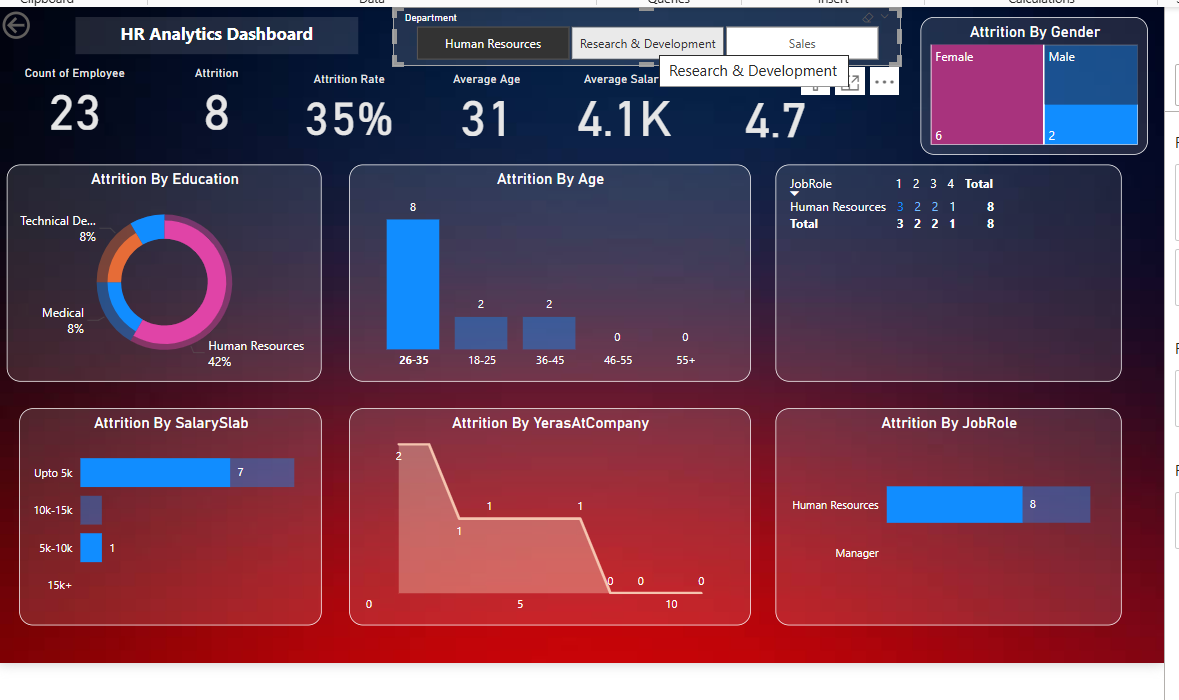

Layout of this report page (visuals, bound fields, positions):
{"tool":"powerbi","page":{"name":"Page 1","canvas":[1280,720],"ordinal":0},"visuals":[{"type":"card","title":"Count of Employee","fields":{"Values":["Sum(HR_Analytics.EmployeeCount)"]},"box":[9.6,64.5,149.6,75.5],"z":0},{"type":"card","title":"Attrition","fields":{"Values":["Sum(HR_Analytics.AttritionCount)"]},"box":[164.7,64.5,150.9,75.5],"z":1000},{"type":"card","title":"Attrition Rate","fields":{"Values":["HR_Analytics.Attrition Rtae"]},"box":[310.1,71.4,150.9,75.5],"z":2000},{"type":"card","title":"Average Age","fields":{"Values":["Avg(HR_Analytics.Age)"]},"box":[461.1,71.4,150.9,75.5],"z":3000},{"type":"card","title":"Average Salary","fields":{"Values":["Avg(HR_Analytics.MonthlyIncome)"]},"box":[612,71.4,150.9,75.5],"z":4000},{"type":"card","title":"Average Yeras","fields":{"Values":["Avg(HR_Analytics.YearsAtCompany)"]},"box":[778,72.7,150.9,75.5],"z":5000},{"type":"actionButton","box":[0,0,100,40],"z":6000},{"type":"donutChart","title":"Attrition By Education","fields":{"Category":["HR_Analytics.EducationField"],"Y":["Sum(HR_Analytics.AttritionCount)"]},"box":[9.6,172.9,345.8,238.8],"z":7000},{"type":"columnChart","title":"Attrition By Age","fields":{"Category":["HR_Analytics.AgeGroup"],"Y":["Sum(HR_Analytics.AttritionCount)"]},"box":[385.6,172.9,440.5,238.8],"z":8000},{"type":"pivotTable","fields":{"Rows":["HR_Analytics.JobRole"],"Columns":["HR_Analytics.JobSatisfaction"],"Values":["Sum(HR_Analytics.AttritionCount)"]},"box":[853.5,172.9,380.1,238.8],"z":9000},{"type":"clusteredBarChart","title":"Attrition By SalarySlab","fields":{"Category":["HR_Analytics.SalarySlab"],"Y":["Sum(HR_Analytics.AttritionCount)"]},"box":[23.3,440.5,332.1,238.8],"z":10000},{"type":"clusteredBarChart","title":"Attrition By JobRole","fields":{"Category":["HR_Analytics.JobRole"],"Y":["Sum(HR_Analytics.AttritionCount)"]},"box":[853.5,440.5,380.1,238.8],"z":11000},{"type":"areaChart","title":"Attrition By YerasAtCompany","fields":{"Category":["HR_Analytics.YearsAtCompany"],"Y":["Sum(HR_Analytics.AttritionCount)"]},"box":[385.6,440.5,440.5,238.8],"z":12000},{"type":"treemap","title":"Attrition By Gender","fields":{"Group":["HR_Analytics.Gender"],"Values":["Sum(HR_Analytics.AttritionCount)"]},"box":[1012.7,11,249.7,150.9],"z":12001},{"type":"slicer","fields":{"Values":["HR_Analytics.Department"]},"box":[433.6,0,557.1,64.5],"z":12002},{"type":"textbox","box":[85.1,11,310.1,41.2],"z":12003}]}

Visuals, with their boxes on the page's 1280x720 design canvas (x1, y1, x2, y2). These are canvas units, not pixel positions in the 1179x700 screenshot, which may show the page scaled, cropped or inside an application window:
"Count of Employee" card: 10, 64, 159, 140
"Attrition" card: 165, 64, 316, 140
"Attrition Rate" card: 310, 71, 461, 147
"Average Age" card: 461, 71, 612, 147
"Average Salary" card: 612, 71, 763, 147
"Average Yeras" card: 778, 73, 929, 148
actionButton: 0, 0, 100, 40
"Attrition By Education" donutChart: 10, 173, 355, 412
"Attrition By Age" columnChart: 386, 173, 826, 412
pivotTable - HR_Analytics.JobRole x HR_Analytics.JobSatisfaction: 854, 173, 1234, 412
"Attrition By SalarySlab" clusteredBarChart: 23, 440, 355, 679
"Attrition By JobRole" clusteredBarChart: 854, 440, 1234, 679
"Attrition By YerasAtCompany" areaChart: 386, 440, 826, 679
"Attrition By Gender" treemap: 1013, 11, 1262, 162
slicer - HR_Analytics.Department: 434, 0, 991, 64
textbox: 85, 11, 395, 52
